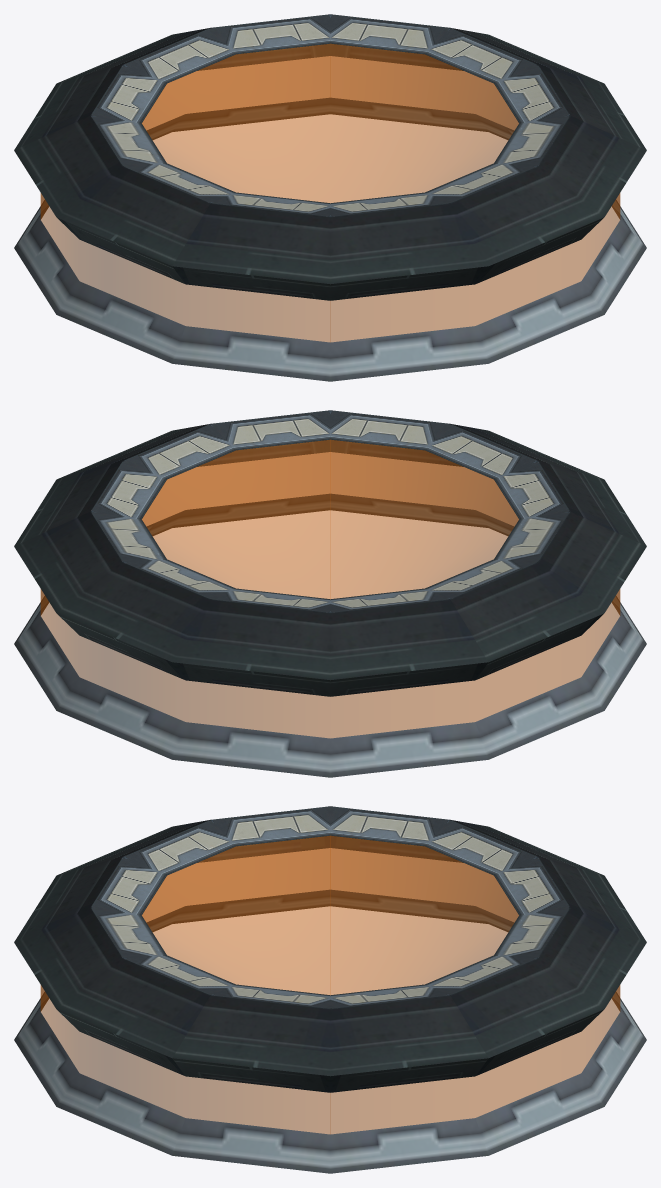
File: TeamsBattle_Part02.fbx
3 views of the same model, one above another, from view 1: azimuth 30°, elevation 25°; view 2: azimuth 150°, elevation 25°; view 3: azimuth 270°, elevation 25° (orthographic).
Visible parts, largest first — view 1: TeamsBattle_Part02; view 2: TeamsBattle_Part02; view 3: TeamsBattle_Part02.
Part boxes in pixels (box(x1,y1,x2,y2)): TeamsBattle_Part02: box(14, 14, 646, 381); TeamsBattle_Part02: box(14, 410, 646, 777); TeamsBattle_Part02: box(14, 806, 646, 1173).
Bounding box in the file's own units: 0.8914 × 0.2057 × 0.8914.
